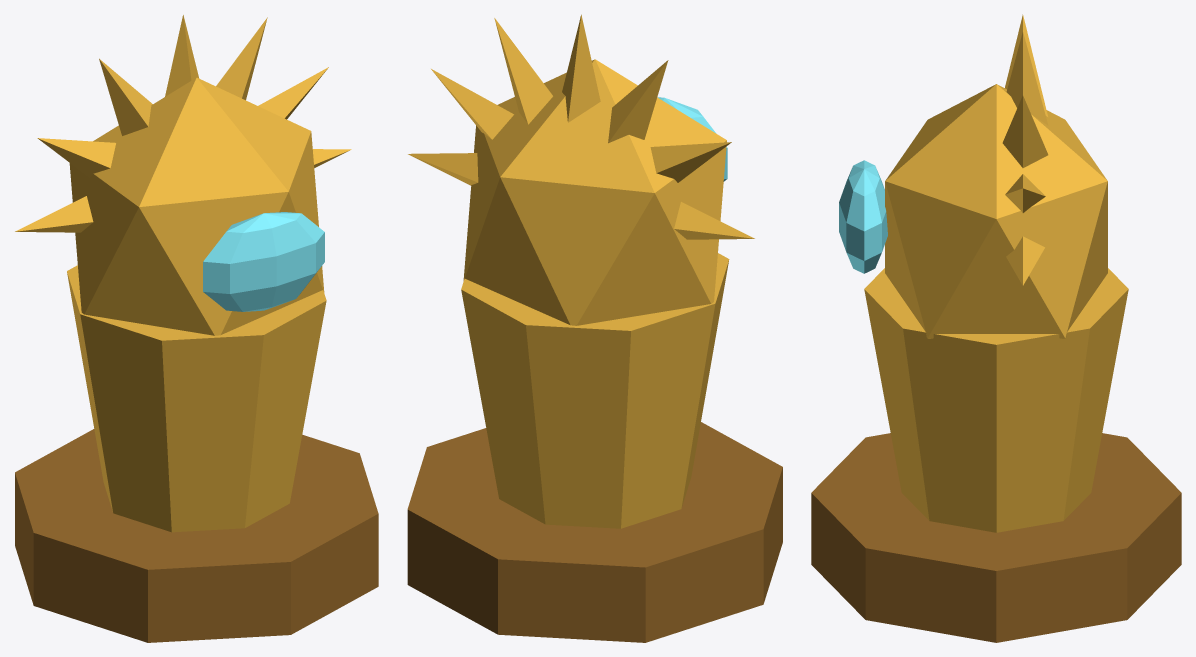
File: relic.fbx
3 renders of one model, left to right at view 1: azimuth 30°, elevation 25°; view 2: azimuth 150°, elevation 25°; view 3: azimuth 270°, elevation 25°, orthographic. The views are drawn at different scales.
Parts seen in each view (by area): view 1: Relic, Relic eye_Glow; view 2: Relic, Relic eye_Glow; view 3: Relic, Relic eye_Glow.
Part boxes in pixels (box(x1,y1,x2,y2)): Relic: box(15, 15, 378, 642); Relic eye_Glow: box(203, 212, 324, 311); Relic: box(407, 14, 782, 642); Relic eye_Glow: box(658, 97, 727, 181); Relic: box(811, 14, 1181, 642); Relic eye_Glow: box(839, 160, 887, 273).
Bounding box in the file's own units: 0.29 × 0.445 × 0.28.
2 materials, 2 textured.
